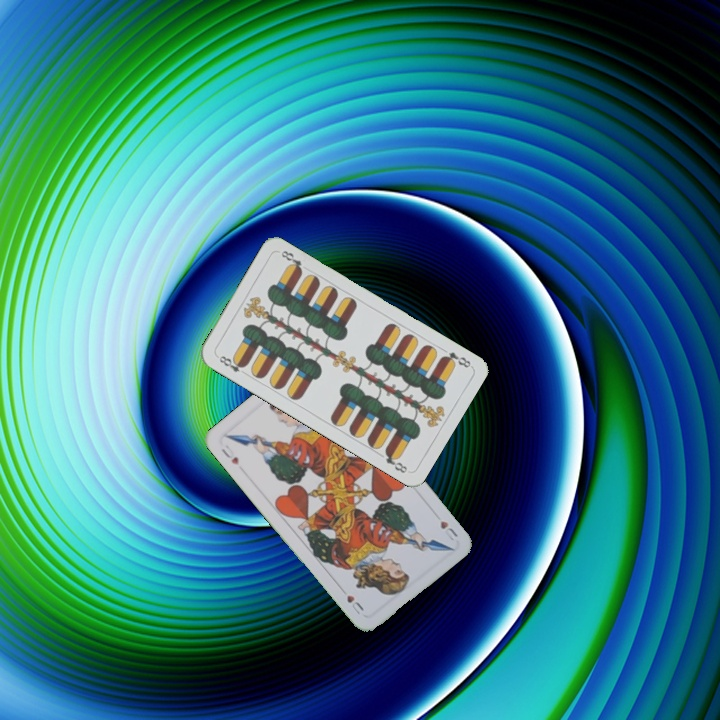E8: (213, 351, 249, 378), (438, 348, 473, 371)
HU: (217, 441, 241, 468), (436, 516, 460, 543)
